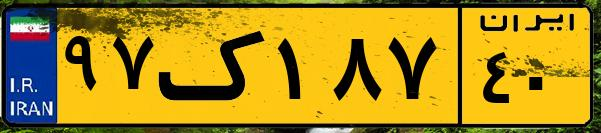0: (525, 38, 570, 115)
1: (270, 28, 330, 110)
4: (475, 38, 525, 113)
7: (385, 28, 445, 110), (110, 28, 158, 98)
8: (330, 28, 385, 110)
9: (57, 26, 110, 100)
ک: (158, 12, 270, 120)
